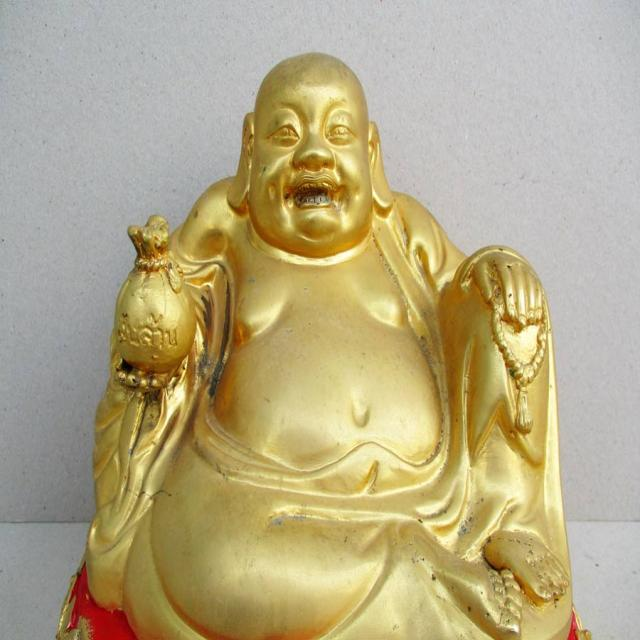Smiling Buddha: (165, 54, 469, 544)
